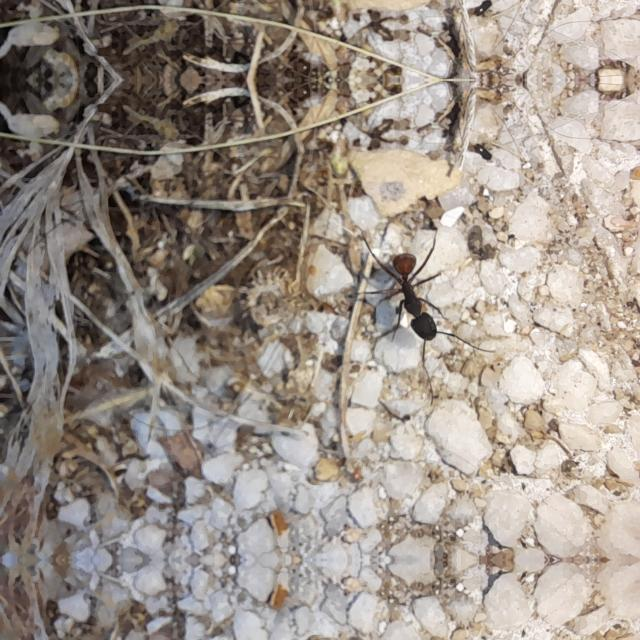Camponotus: (364, 242, 461, 348)
